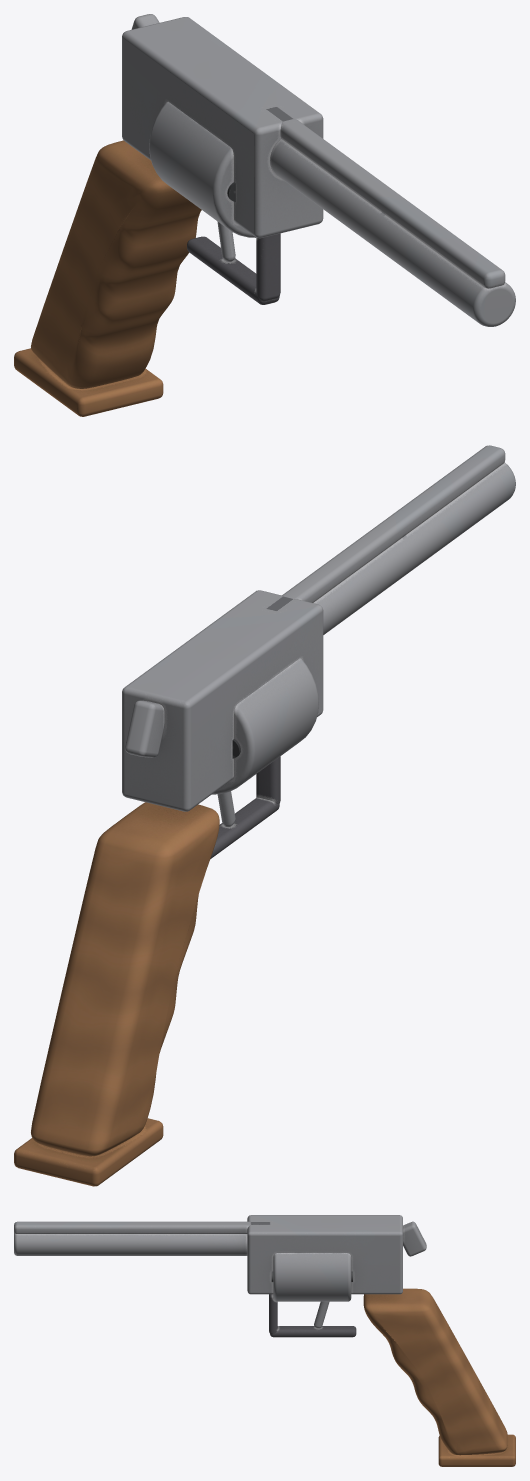
3 renders of one model, top to bottom at view 1: azimuth 30°, elevation 25°; view 2: azimuth 150°, elevation 25°; view 3: azimuth 270°, elevation 25°, orthographic. The views are drawn at different scales.
Visible parts, largest first — view 1: r8; view 2: r8; view 3: r8.
Part boxes in pixels (left/top/right/bottom): r8: left=14, top=14, right=515, bottom=416; r8: left=14, top=445, right=515, bottom=1186; r8: left=14, top=1215, right=515, bottom=1466.
Size of the model in its own units: 0.04 by 0.1485 by 0.2903.
